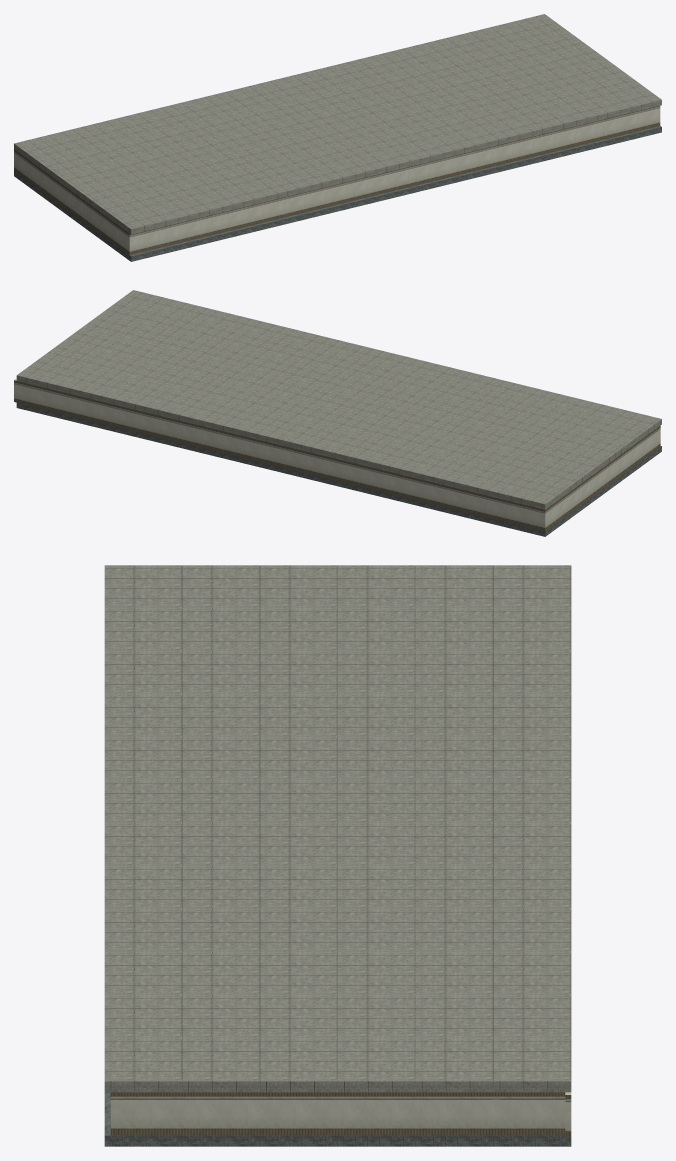
The model's file is test levil02.fbx.
3 renders of one model, top to bottom at view 1: azimuth 30°, elevation 25°; view 2: azimuth 150°, elevation 25°; view 3: azimuth 270°, elevation 25°, orthographic. The views are drawn at different scales.
Parts seen in each view (by area): view 1: entity0_brush72, entity0_brush73, entity0_brush147, entity0_brush117, entity0_brush146, entity0_brush106, entity0_brush118, entity0_brush83, entity0_brush84, entity0_brush105, entity0_brush130, entity0_brush90 (+63 smaller); view 2: entity0_brush74, entity0_brush73, entity0_brush139, entity0_brush100, entity0_brush76, entity0_brush136, entity0_brush135, entity0_brush78, entity0_brush98, entity0_brush99, entity0_brush124, entity0_brush111 (+63 smaller); view 3: entity0_brush75, entity0_brush80, entity0_brush82, entity0_brush76, entity0_brush84, entity0_brush79, entity0_brush81, entity0_brush101, entity0_brush104, entity0_brush107, entity0_brush110, entity0_brush113 (+67 smaller).
Part boxes in pixels (left/top/right/bottom): entity0_brush72: left=128, top=106, right=660, bottom=255; entity0_brush73: left=14, top=149, right=128, bottom=253; entity0_brush147: left=111, top=204, right=175, bottom=234; entity0_brush117: left=333, top=150, right=396, bottom=180; entity0_brush146: left=156, top=193, right=219, bottom=223; entity0_brush106: left=377, top=139, right=440, bottom=169; entity0_brush118: left=289, top=161, right=352, bottom=191; entity0_brush83: left=554, top=96, right=617, bottom=126; entity0_brush84: left=598, top=85, right=661, bottom=115; entity0_brush105: left=421, top=128, right=484, bottom=158; entity0_brush130: left=200, top=182, right=263, bottom=212; entity0_brush90: left=510, top=107, right=573, bottom=137; entity0_brush74: left=14, top=379, right=542, bottom=530; entity0_brush73: left=542, top=427, right=658, bottom=531; entity0_brush139: left=501, top=479, right=564, bottom=509; entity0_brush100: left=192, top=404, right=255, bottom=434; entity0_brush76: left=16, top=361, right=79, bottom=391; entity0_brush136: left=457, top=468, right=520, bottom=498; entity0_brush135: left=413, top=458, right=475, bottom=488; entity0_brush78: left=60, top=372, right=123, bottom=402; entity0_brush98: left=148, top=393, right=211, bottom=423; entity0_brush99: left=104, top=382, right=167, bottom=412; entity0_brush124: left=369, top=447, right=431, bottom=477; entity0_brush111: left=237, top=415, right=299, bottom=445; entity0_brush75: left=116, top=1092, right=565, bottom=1135; entity0_brush80: left=415, top=1038, right=493, bottom=1092; entity0_brush82: left=182, top=1038, right=260, bottom=1092; entity0_brush76: left=493, top=1038, right=571, bottom=1092; entity0_brush84: left=104, top=1038, right=182, bottom=1092; entity0_brush79: left=338, top=1038, right=415, bottom=1092; entity0_brush81: left=260, top=1038, right=337, bottom=1092; entity0_brush101: left=415, top=866, right=493, bottom=909; entity0_brush104: left=182, top=866, right=260, bottom=909; entity0_brush107: left=182, top=823, right=260, bottom=866; entity0_brush110: left=415, top=823, right=493, bottom=866; entity0_brush113: left=415, top=780, right=493, bottom=823.
Bounding box in the file's own units: 13976 × 818 × 5318.
Materials: 4 (4 with a texture image).
